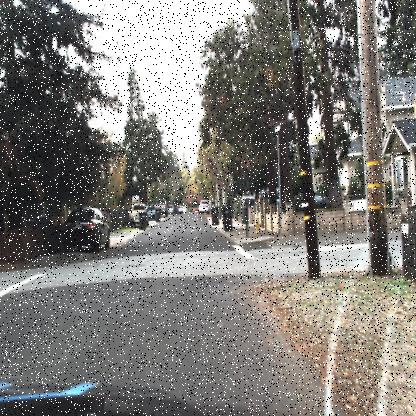car: (57, 206, 112, 255), (60, 207, 112, 249), (286, 190, 342, 212), (256, 186, 290, 209), (128, 201, 147, 230), (129, 203, 146, 228), (154, 196, 169, 218), (197, 196, 212, 217), (144, 205, 158, 223), (154, 198, 168, 216), (196, 198, 210, 216), (146, 205, 159, 222)
